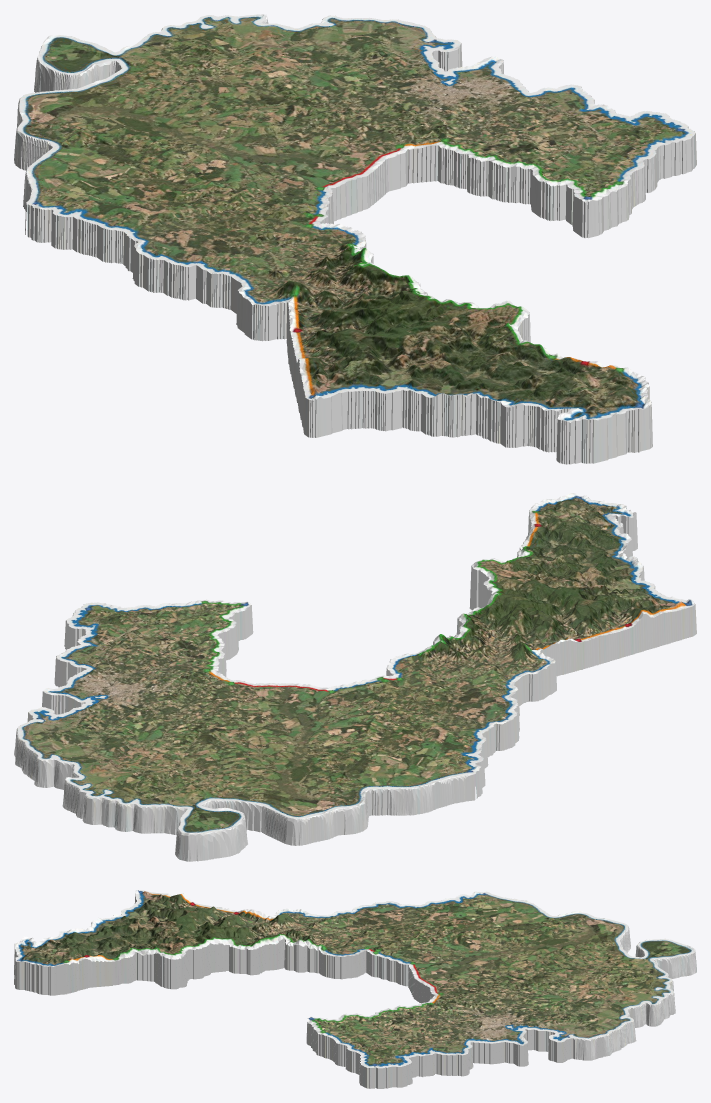
The picture shows the model from 3 angles, top to bottom: view 1: azimuth 30°, elevation 25°; view 2: azimuth 150°, elevation 25°; view 3: azimuth 270°, elevation 25°; orthographic projection. The views are drawn at different scales.
Bounding box in the file's own units: 1 × 0.0847 × 1.63.
Materials: 1 (1 with a texture image).
